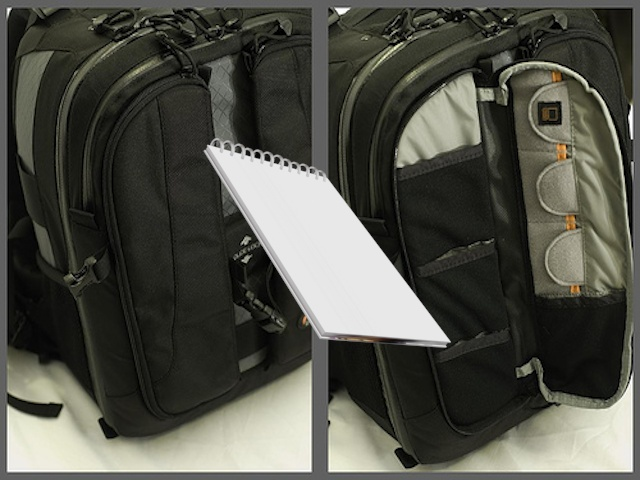paper_notebook: (201, 137, 456, 353)
